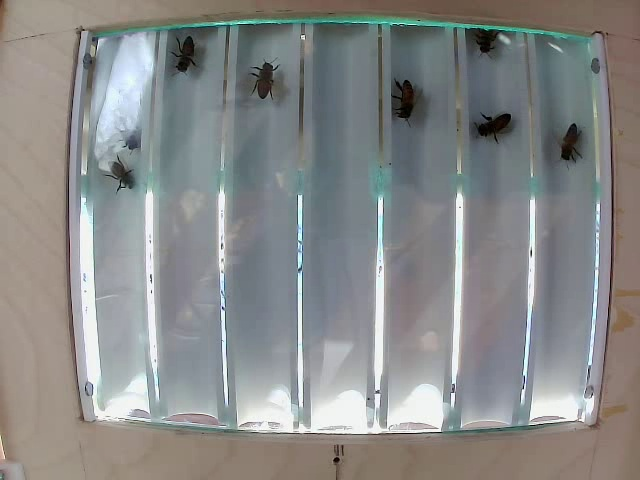bee: (240, 59, 287, 103), (397, 71, 428, 130), (177, 36, 220, 73), (541, 117, 575, 163), (472, 102, 506, 145), (109, 157, 149, 191)
